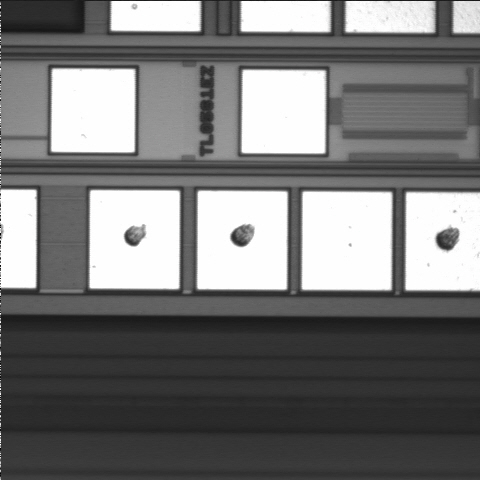pad: (90, 190, 180, 289), (197, 191, 287, 290), (302, 192, 392, 290), (51, 69, 135, 152), (242, 70, 326, 153)
